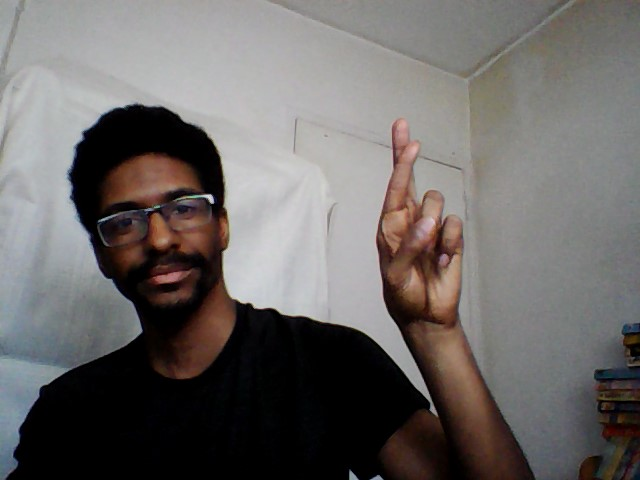r: (374, 112, 467, 330)
